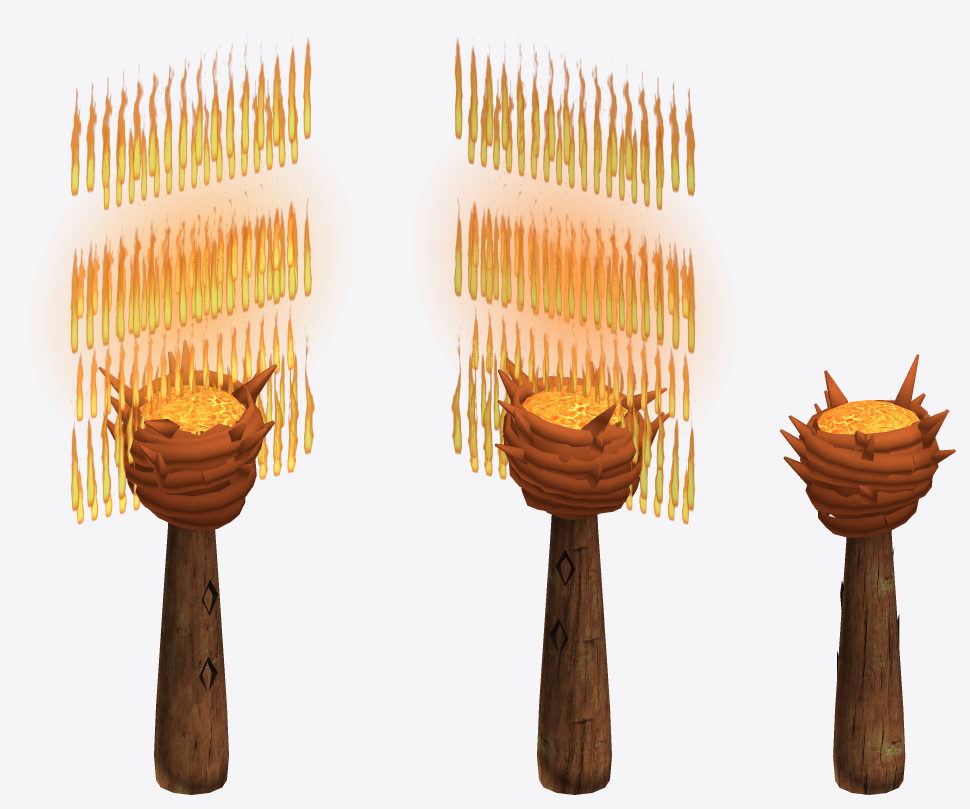
File: mm8_deco_standing_torch.glb
The picture shows the model from 3 angles, left to right: view 1: azimuth 30°, elevation 25°; view 2: azimuth 150°, elevation 25°; view 3: azimuth 270°, elevation 25°; orthographic projection. The views are drawn at different scales.
Parts seen in each view (by area): view 1: Torch; view 2: Torch; view 3: Torch.
Boxes of the visible parts, bbox=[...] form: Torch: bbox=[60, 38, 322, 794]; Torch: bbox=[443, 38, 705, 794]; Torch: bbox=[780, 354, 955, 794].
Size of the model in its own units: 0.7344 by 1.46 by 0.328.
8 materials, 8 textured.
